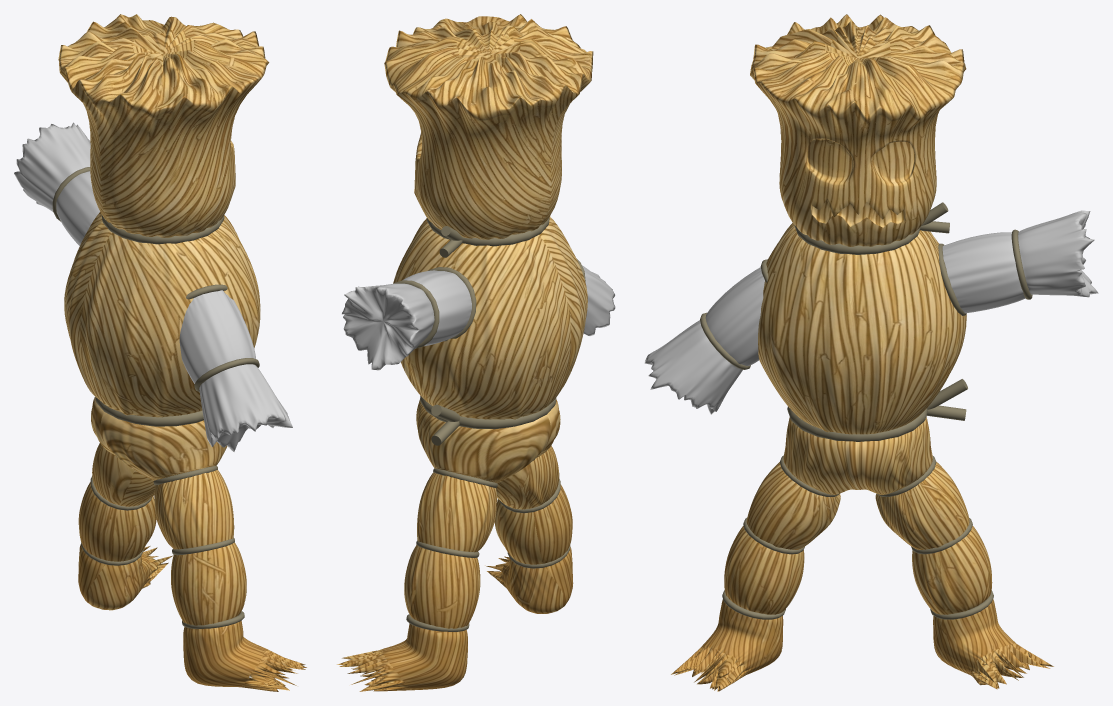
File: ストローマン.fbx
3 renders of one model, left to right at view 1: azimuth 30°, elevation 25°; view 2: azimuth 150°, elevation 25°; view 3: azimuth 270°, elevation 25°, orthographic. The views are drawn at different scales.
Visible parts, largest first — view 1: Body, Head, Right_hand, Left_hand, pTorus1, pTorus6, pTorus5; view 2: Body, Head, Left_hand, Right_hand, pTorus1, pTorus6, pTorus12, pTorus7; view 3: Body, Head, Left_hand, Right_hand, pTorus1, pTorus6.
Boxes of the visible parts, bbox=[...] form: Body: bbox=[64, 212, 306, 691]; Head: bbox=[58, 14, 269, 237]; Right_hand: bbox=[179, 290, 292, 451]; Left_hand: bbox=[14, 122, 100, 245]; pTorus1: bbox=[95, 397, 203, 426]; pTorus6: bbox=[101, 215, 224, 244]; pTorus5: bbox=[194, 358, 259, 391]; Body: bbox=[337, 216, 587, 691]; Head: bbox=[384, 14, 593, 239]; Left_hand: bbox=[342, 270, 471, 370]; Right_hand: bbox=[582, 265, 615, 335]; pTorus1: bbox=[420, 396, 556, 429]; pTorus6: bbox=[427, 217, 549, 246]; pTorus12: bbox=[393, 280, 439, 348]; pTorus7: bbox=[428, 267, 476, 341]; Body: bbox=[671, 223, 1053, 691]; Head: bbox=[750, 14, 966, 246]; Left_hand: bbox=[942, 210, 1098, 313]; Right_hand: bbox=[644, 267, 764, 414]; pTorus1: bbox=[787, 406, 927, 441]; pTorus6: bbox=[794, 225, 920, 254].
Size of the model in its own units: 2.9 by 9.22 by 6.09.
